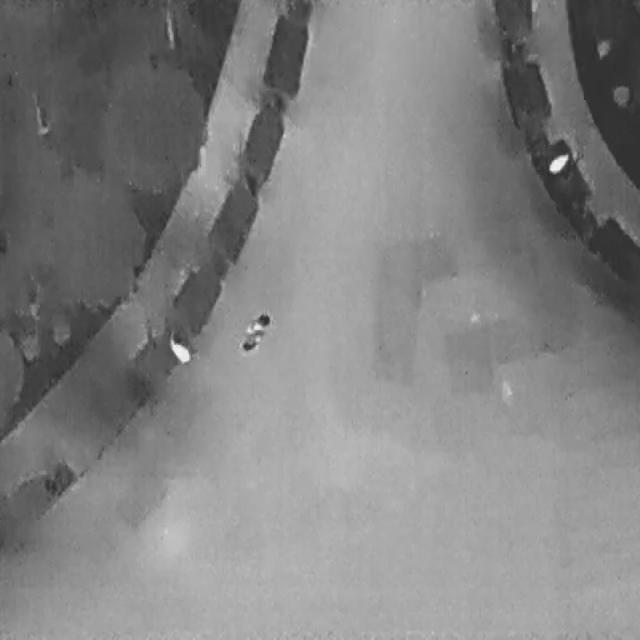Bicycle: (233, 302, 275, 360)
